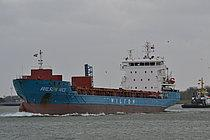Ship: (14, 46, 183, 115)
